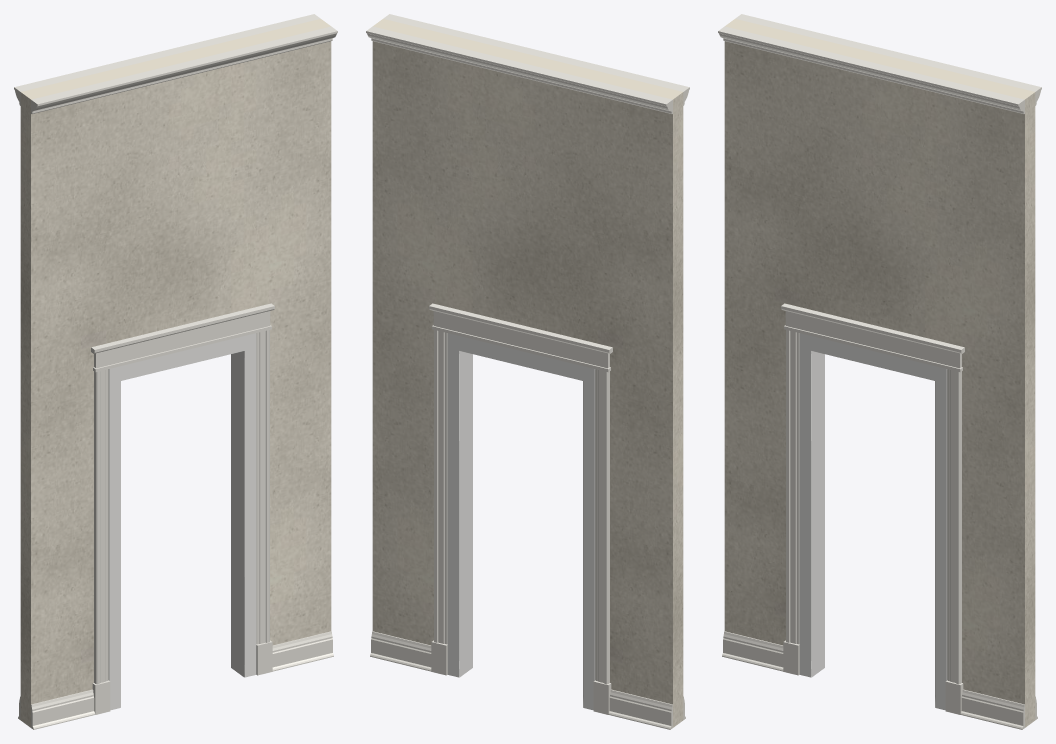
The model's file is interior_wall_doorway.glb.
3 views of the same model, side by side, from view 1: azimuth 30°, elevation 25°; view 2: azimuth 150°, elevation 25°; view 3: azimuth 330°, elevation 25° (orthographic).
Visible parts, largest first — view 1: interior_wall_doorway_plaster, molduras, interior_wall_doorway_frame; view 2: interior_wall_doorway_plaster, molduras, interior_wall_doorway_frame; view 3: interior_wall_doorway_plaster, molduras, interior_wall_doorway_frame.
Boxes of the visible parts, x1,y1,x2,y2 form: interior_wall_doorway_plaster: (20,19,331,727); molduras: (14,14,337,729); interior_wall_doorway_frame: (108,333,256,710); interior_wall_doorway_plaster: (372,19,683,727); molduras: (366,14,689,729); interior_wall_doorway_frame: (447,333,595,710); interior_wall_doorway_plaster: (724,19,1035,727); molduras: (718,14,1041,729); interior_wall_doorway_frame: (799,333,947,710).
Bounding box in the file's own units: 2 × 4 × 0.27.
Materials: 3 (1 with a texture image).
